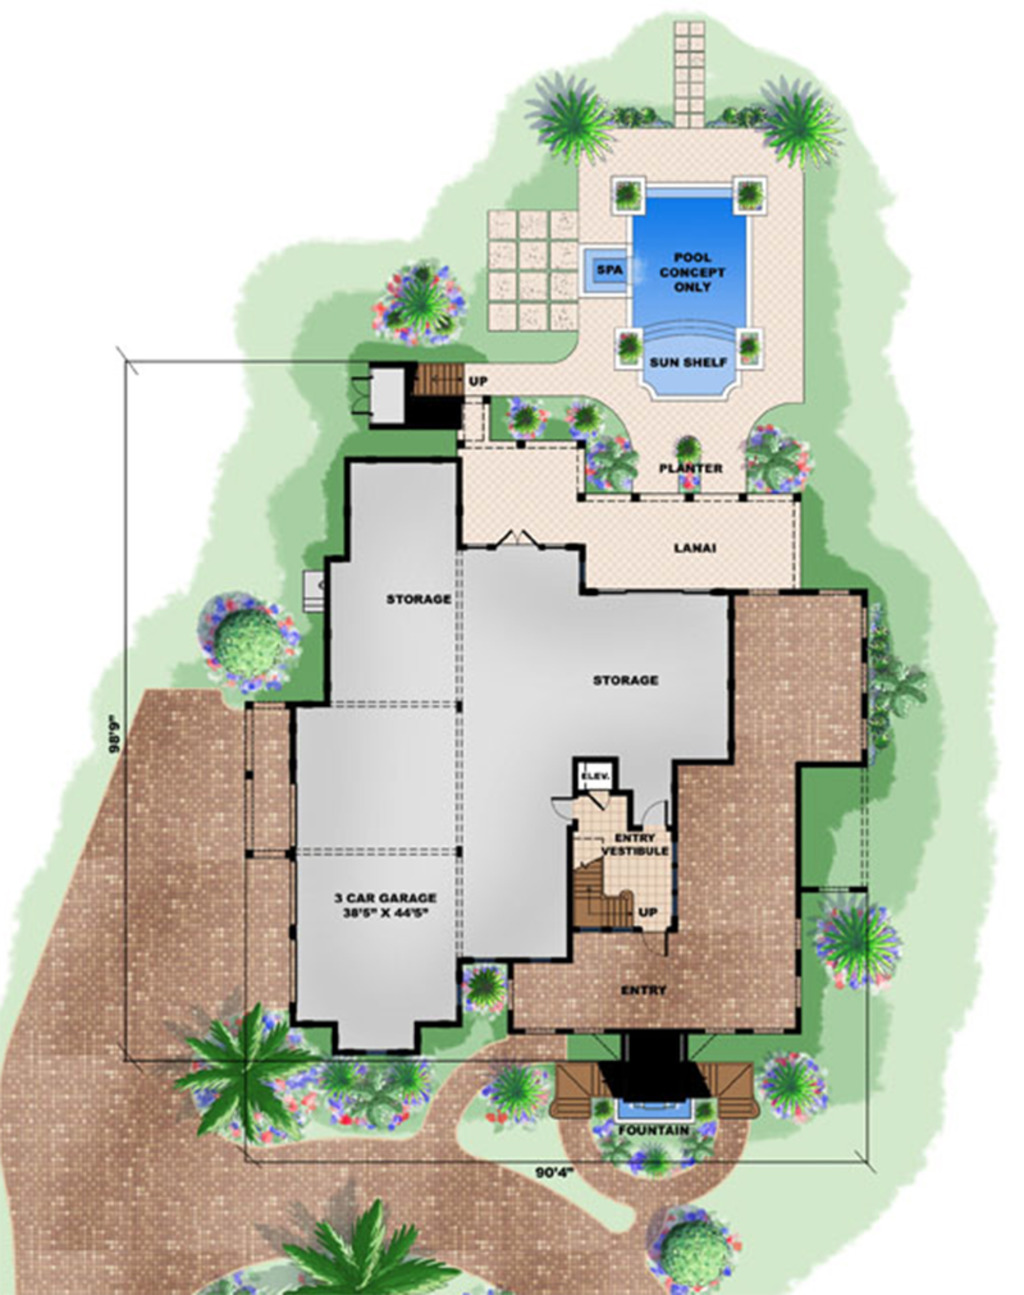door: (638, 799, 669, 835), (549, 792, 575, 823)
stairs: (571, 839, 647, 938), (396, 358, 478, 397)
